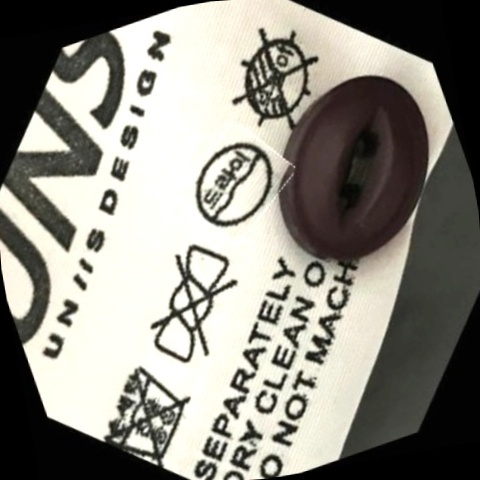DN_dry: (214, 18, 337, 142)
DN_wring: (124, 237, 263, 376)
dry_clean: (180, 127, 291, 242)
hand_wash: (88, 347, 206, 473)
